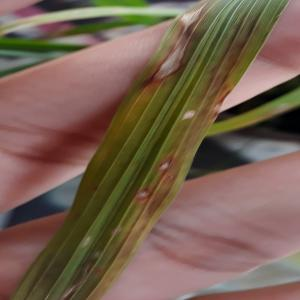1 RiceBlast: (134, 36, 197, 84), (164, 1, 218, 44), (122, 184, 161, 209), (152, 156, 187, 182), (178, 102, 202, 125)
